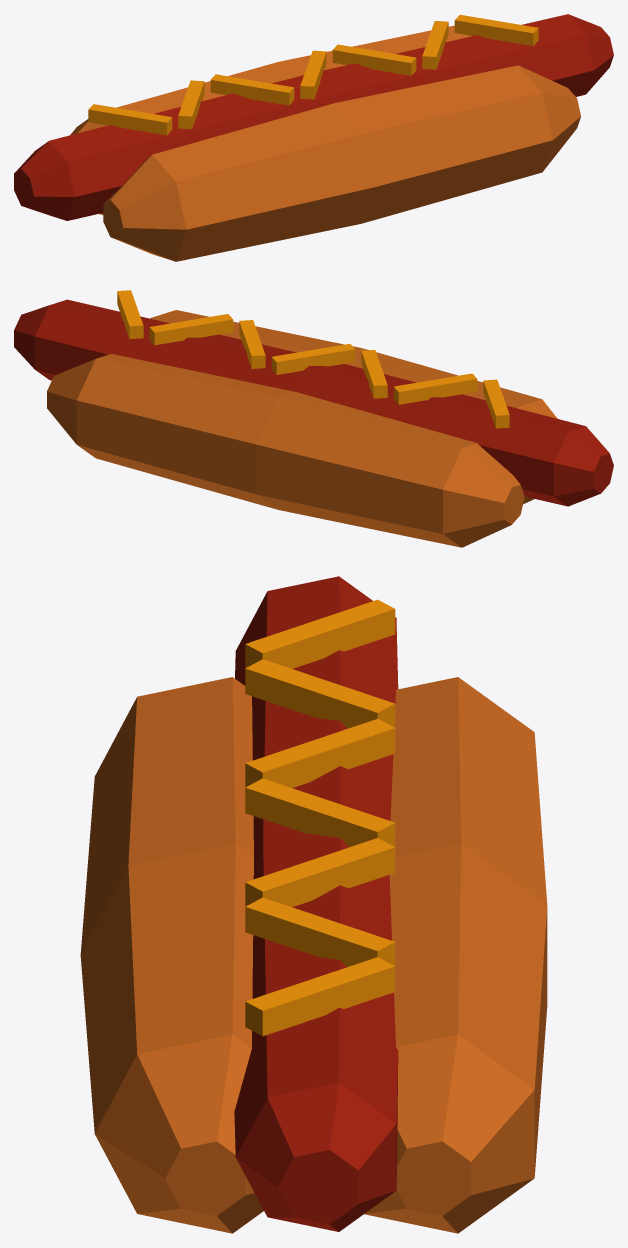
File: hotdog.obj
3 renders of one model, top to bottom at view 1: azimuth 30°, elevation 25°; view 2: azimuth 150°, elevation 25°; view 3: azimuth 270°, elevation 25°, orthographic. The views are drawn at different scales.
Parts seen in each view (by area): view 1: hotdog; view 2: hotdog; view 3: hotdog.
Part boxes in pixels (left/top/right/bottom): hotdog: left=14, top=14, right=613, bottom=261; hotdog: left=14, top=290, right=613, bottom=547; hotdog: left=80, top=576, right=547, bottom=1233.
Bounding box in the file's own units: 0.19 × 0.041 × 0.0662.
